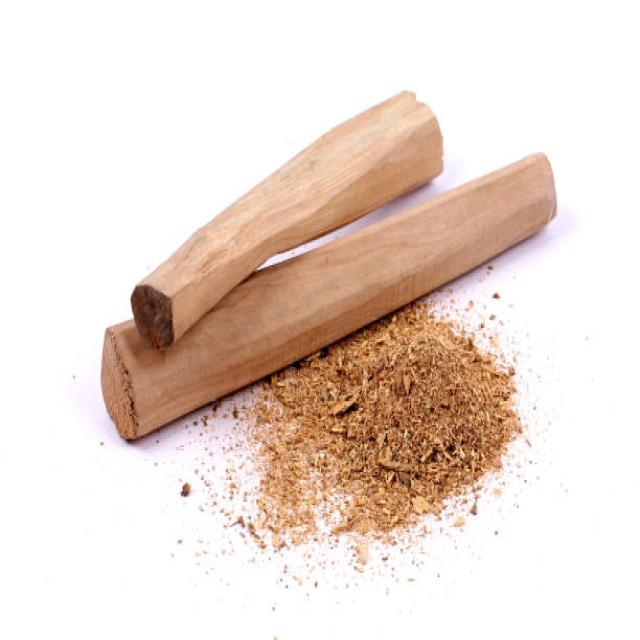Sandalwood: (49, 92, 554, 467)
